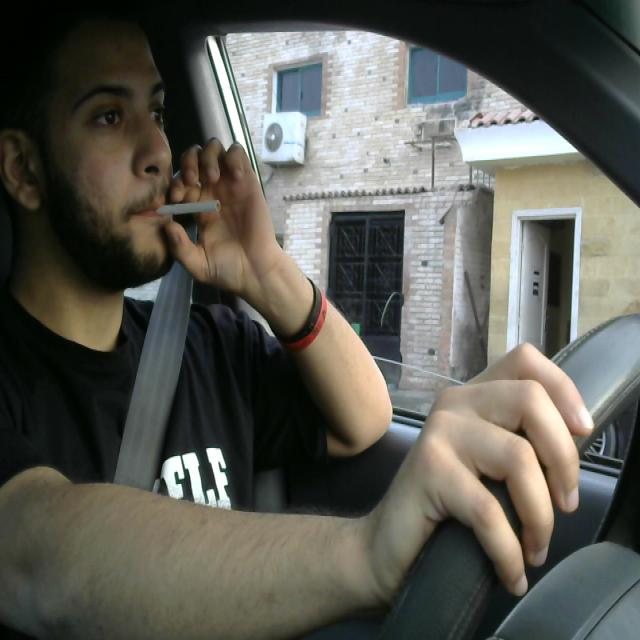smoking: (146, 198, 225, 224)
